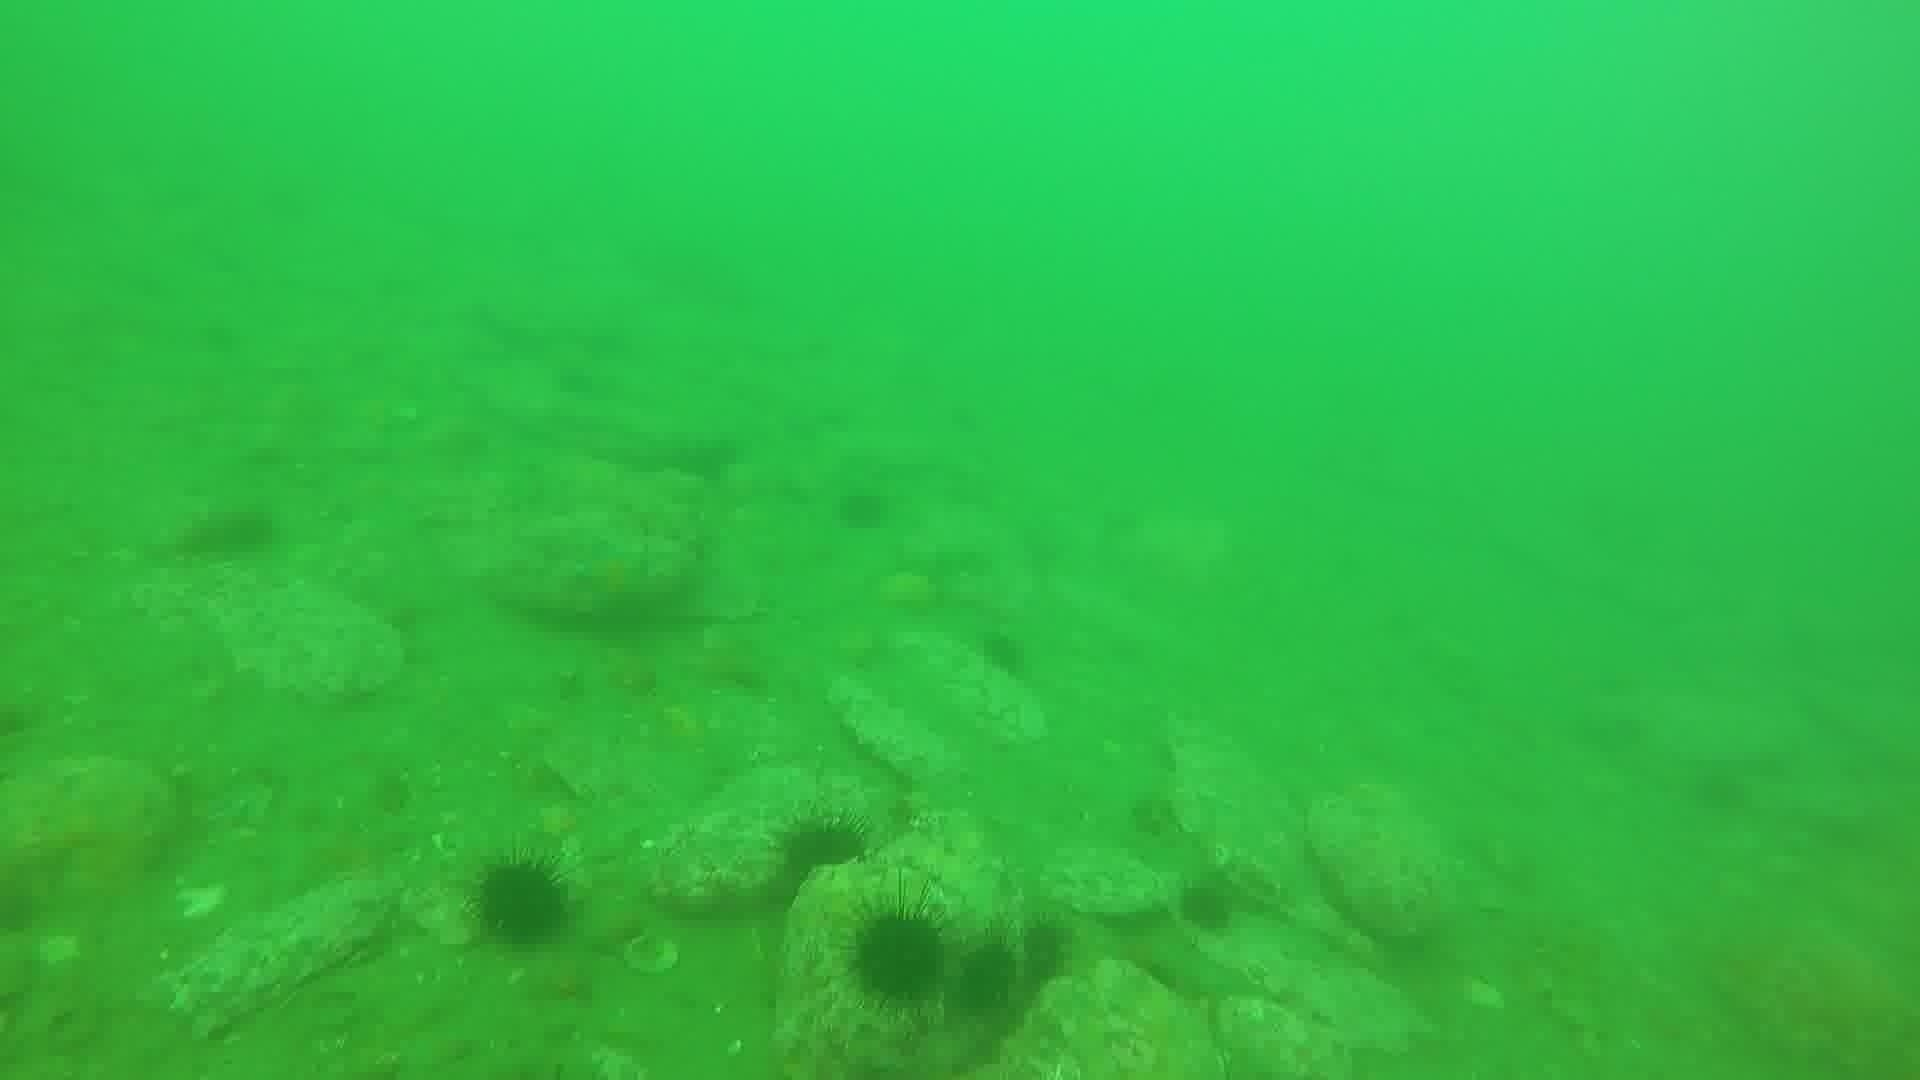echinus: (841, 899, 952, 1011), (764, 810, 873, 911), (468, 851, 576, 951), (177, 500, 281, 567), (949, 936, 1025, 1018), (1010, 914, 1076, 993), (1172, 874, 1242, 939), (1121, 789, 1187, 845), (831, 483, 894, 535), (973, 625, 1033, 680)
starfish: (564, 539, 659, 612)
